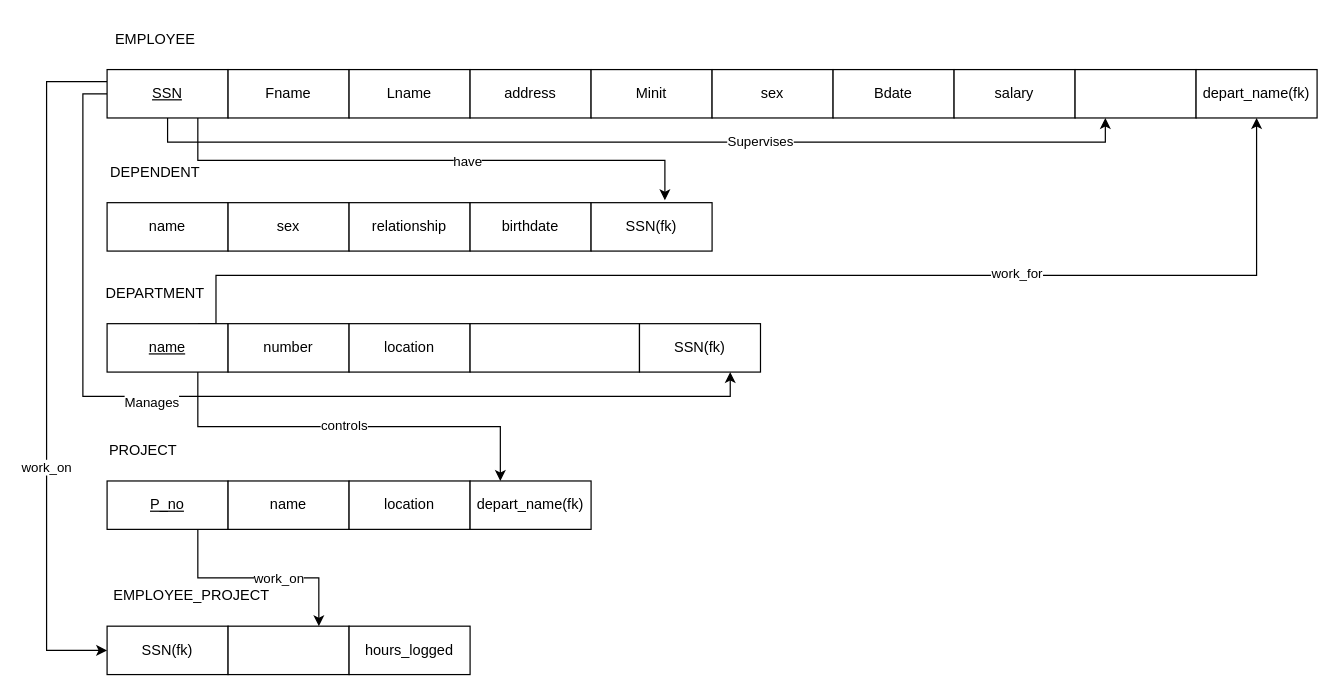
The diagram is 1338 pixels wide and 696 high, and some of its shapes have lost their labels. Each missing label, with the centre of its shape:
Manager_no(fk): point 1135,93
NumberOfEmployees: point 554,347
P_no(fk): point 288,650
